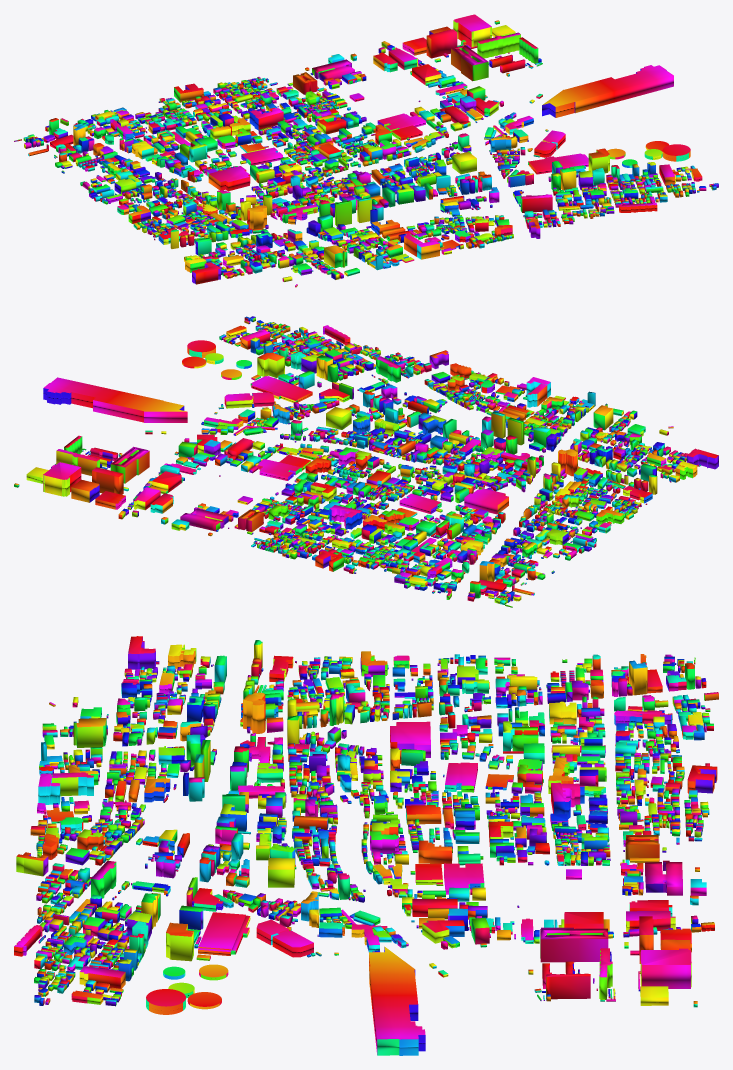
3 views of the same model, one above another, from view 1: azimuth 30°, elevation 25°; view 2: azimuth 150°, elevation 25°; view 3: azimuth 270°, elevation 25° (orthographic). The views are drawn at different scales.
Visible parts, largest first — view 1: BLD_8bd6600b-d13c-421e-937a-2fee4c80796f1; view 2: BLD_8bd6600b-d13c-421e-937a-2fee4c80796f1; view 3: BLD_8bd6600b-d13c-421e-937a-2fee4c80796f1.
Part boxes in pixels (x1,y1,x2,y2): BLD_8bd6600b-d13c-421e-937a-2fee4c80796f1: (14, 14, 718, 287); BLD_8bd6600b-d13c-421e-937a-2fee4c80796f1: (14, 316, 718, 607); BLD_8bd6600b-d13c-421e-937a-2fee4c80796f1: (14, 636, 718, 1055).
Bounding box in the file's own units: 1322 × 49.83 × 976.
